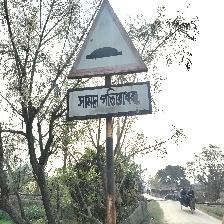Speed-breaker: (66, 0, 151, 123)
